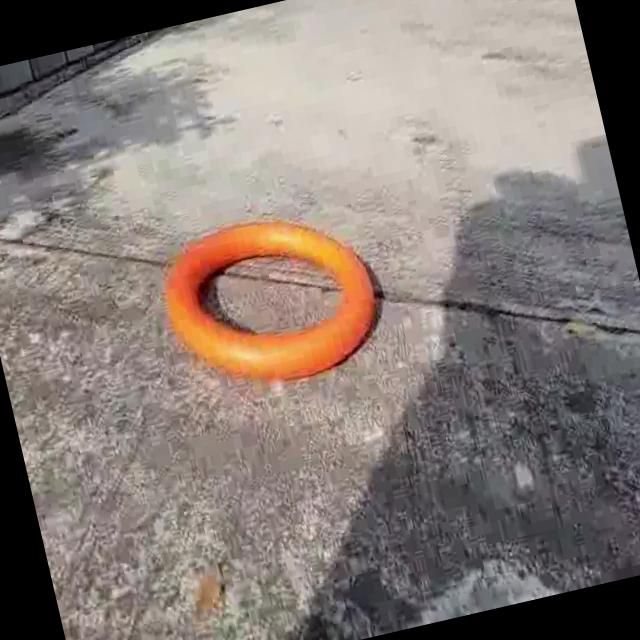note: (152, 194, 398, 412)
